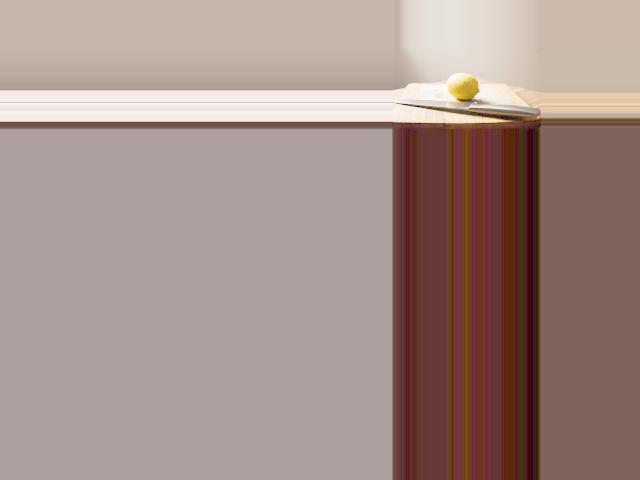lemon: (445, 70, 482, 99)
